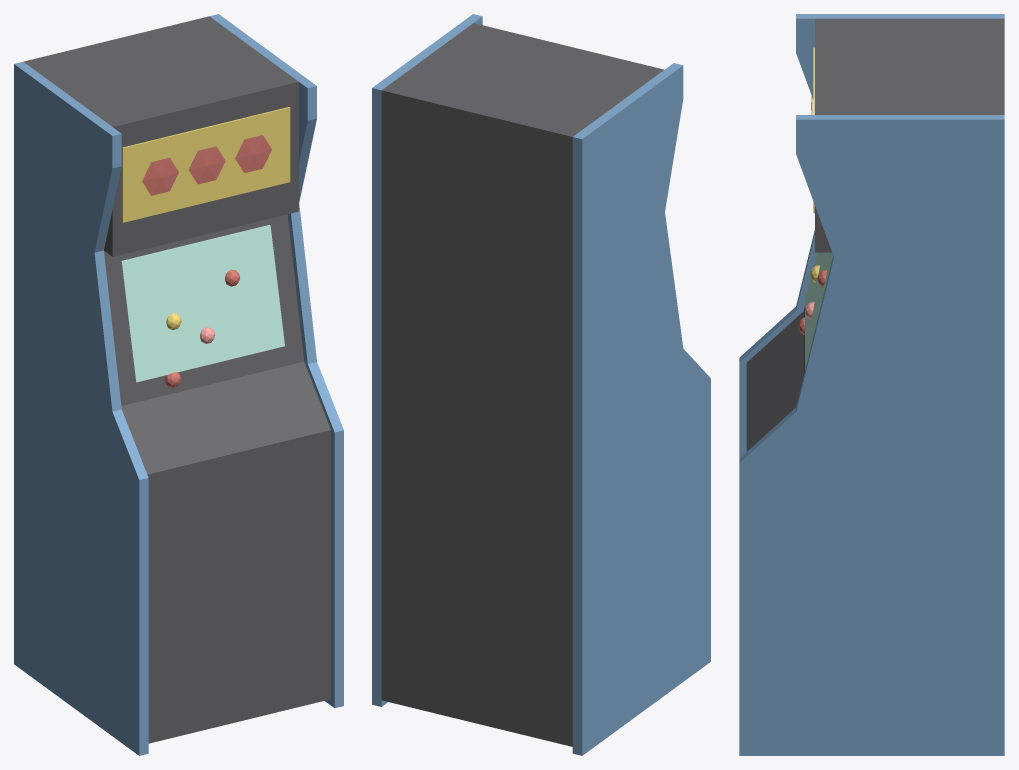
File: arcade.glb
The picture shows the model from 3 angles, left to right: view 1: azimuth 30°, elevation 25°; view 2: azimuth 150°, elevation 25°; view 3: azimuth 270°, elevation 25°; orthographic projection. The views are drawn at different scales.
Parts seen in each view (by area): view 1: arcade_dark, arcade_blue_p, arcade_neon, arcade_yellowp, arcade_tile_r; view 2: arcade_dark, arcade_blue_p; view 3: arcade_blue_p, arcade_dark, arcade_neon.
Boxes of the visible parts, x1,y1,x2,y2 form: arcade_dark: (24,16,330,743); arcade_blue_p: (14,14,343,755); arcade_neon: (121,225,284,382); arcade_yellowp: (122,107,290,330); arcade_tile_r: (142,135,271,387); arcade_dark: (381,23,663,746); arcade_blue_p: (372,14,710,755); arcade_blue_p: (739,14,1004,755); arcade_dark: (746,18,1004,451); arcade_neon: (805,252,833,369).
Size of the model in its own units: 0.66 by 1.85 by 0.7.
